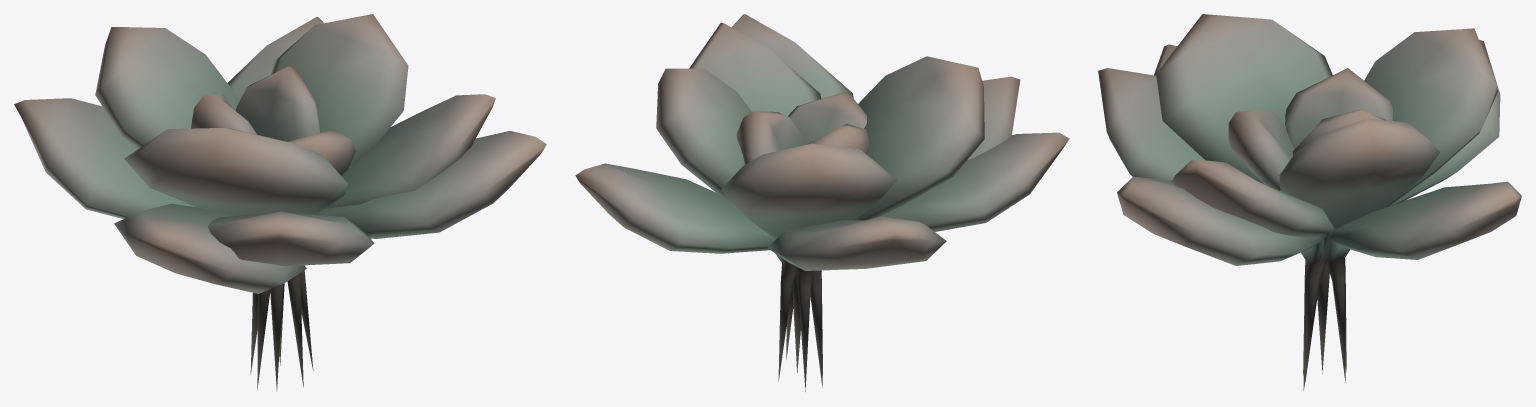
File: plants-cacti-succulents-pastel-succulent_v3.fbx
The picture shows the model from 3 angles, left to right: view 1: azimuth 30°, elevation 25°; view 2: azimuth 150°, elevation 25°; view 3: azimuth 270°, elevation 25°; orthographic projection. The views are drawn at different scales.
Visible parts, largest first — view 1: Pastel Succulent_v3; view 2: Pastel Succulent_v3; view 3: Pastel Succulent_v3.
Boxes of the visible parts, x1=… form: Pastel Succulent_v3: x1=14, y1=14, x2=546, y2=390; Pastel Succulent_v3: x1=575, y1=14, x2=1069, y2=391; Pastel Succulent_v3: x1=1098, y1=14, x2=1521, y2=390.
Bounding box in the file's own units: 0.15 × 0.1229 × 0.1484.
